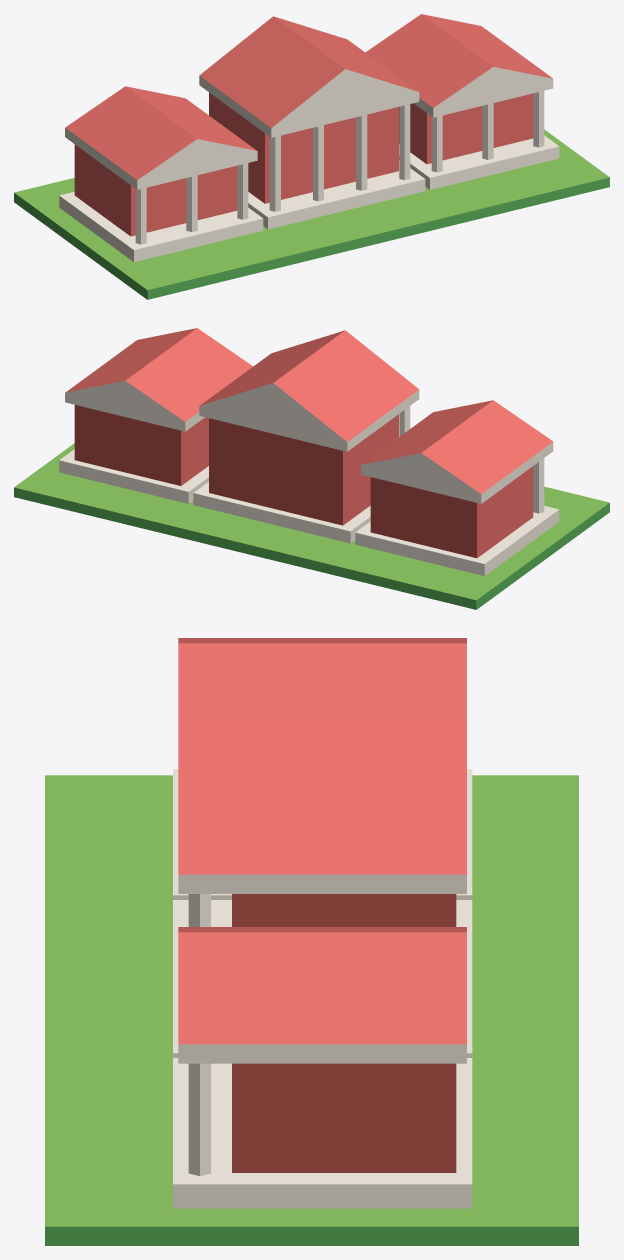
The model's file is skill_placevalue_hall_t2.glb.
3 views of the same model, one above another, from view 1: azimuth 30°, elevation 25°; view 2: azimuth 150°, elevation 25°; view 3: azimuth 270°, elevation 25° (orthographic). The views are drawn at different scales.
Visible parts, largest first — view 1: wing_center, wing_left, base, wing_right; view 2: wing_center, wing_left, base, wing_right; view 3: base, wing_right, wing_center, wing_left.
Part boxes in pixels (box(x1,y1,x2,y2)): wing_center: box(199, 16, 425, 229); wing_left: box(59, 86, 263, 262); base: box(14, 129, 609, 299); wing_right: box(365, 14, 559, 189); wing_center: box(193, 330, 419, 543); wing_left: box(355, 400, 559, 575); base: box(14, 443, 609, 609); wing_right: box(59, 328, 252, 503); base: box(45, 775, 578, 1245); wing_right: box(173, 927, 472, 1208); wing_center: box(173, 720, 472, 1057); wing_left: box(173, 638, 472, 899).
Bounding box in the file's own units: 2 × 0.62 × 1.
